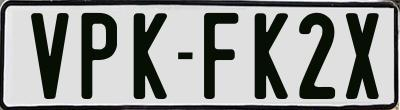2: (298, 11, 335, 99)
F: (201, 13, 238, 104)
K: (132, 13, 167, 104), (253, 12, 286, 102)
P: (80, 10, 120, 98)
V: (28, 12, 66, 99)
X: (343, 13, 381, 99)
